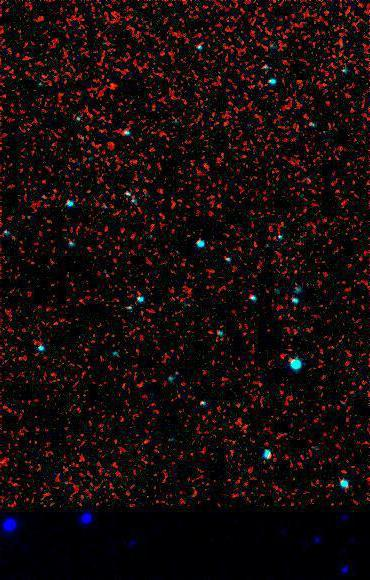star: (98, 68, 128, 98)
